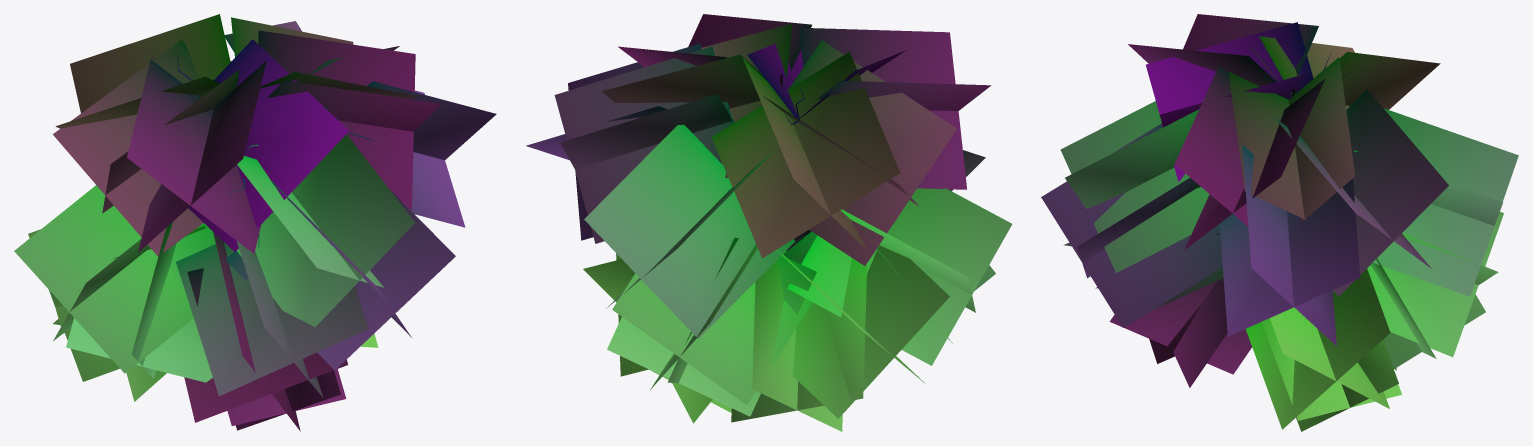
The model's file is M_P1_Tree_7.fbx.
The picture shows the model from 3 angles, left to right: view 1: azimuth 30°, elevation 25°; view 2: azimuth 150°, elevation 25°; view 3: azimuth 270°, elevation 25°; orthographic projection. The views are drawn at different scales.
Visible parts, largest first — view 1: M_Tree_1_7; view 2: M_Tree_1_7; view 3: M_Tree_1_7.
Boxes of the visible parts, <box> form: M_Tree_1_7: <box>14,14,496,431</box>; M_Tree_1_7: <box>526,14,1012,431</box>; M_Tree_1_7: <box>1041,14,1518,431</box>.
Bounding box in the file's own units: 843 × 699 × 832.
